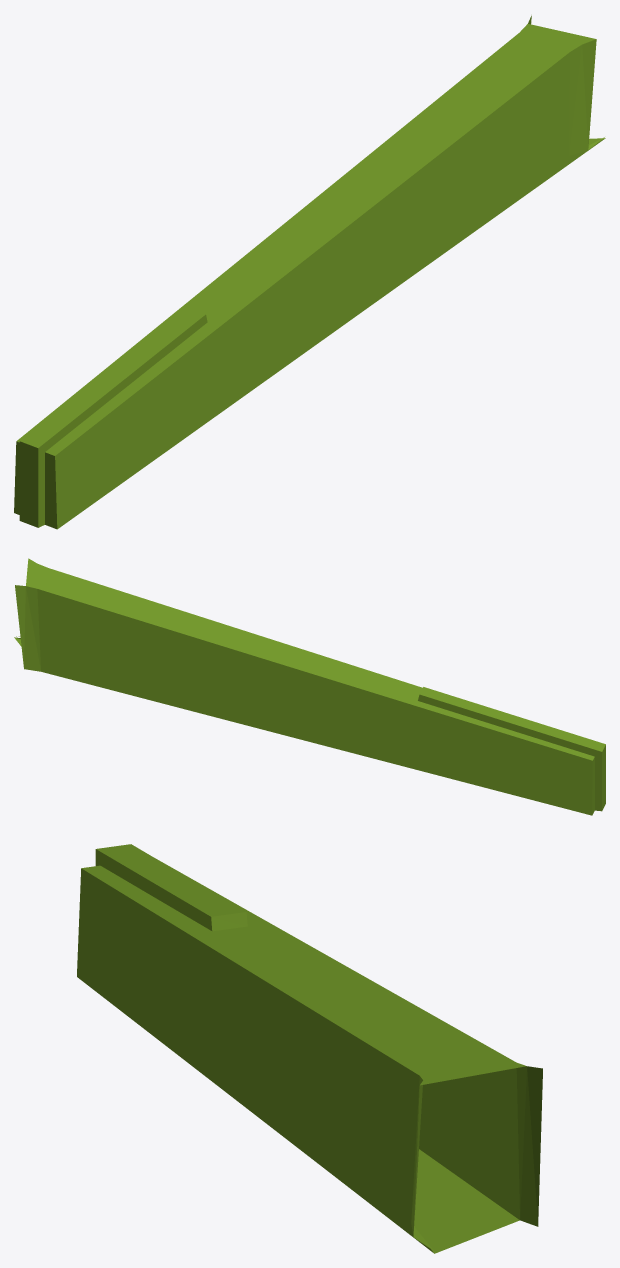
3 views of the same model, one above another, from view 1: azimuth 30°, elevation 25°; view 2: azimuth 150°, elevation 25°; view 3: azimuth 270°, elevation 25° (orthographic). The views are drawn at different scales.
Size of the model in its own units: 0.4994 by 0.1709 by 0.1969.
